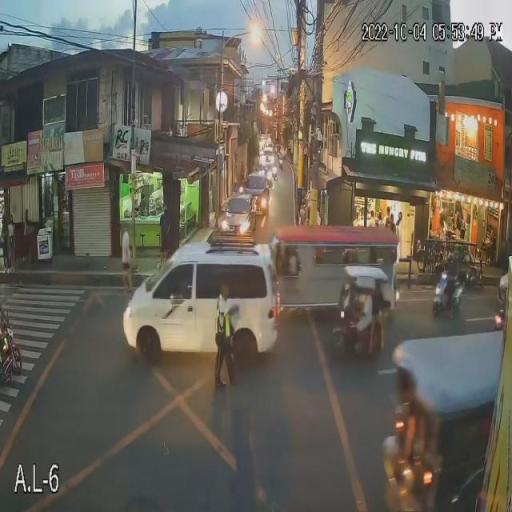motorcycle: (431, 268, 465, 322)
rider: (440, 244, 462, 298)
